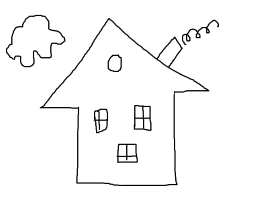closed_window: (134, 104, 152, 131), (116, 144, 138, 163), (93, 109, 108, 133)
clouds: (5, 13, 67, 66)
single_line_roof: (42, 16, 208, 107)
smoking_chimney: (155, 15, 228, 70)
wall: (71, 88, 177, 189)
